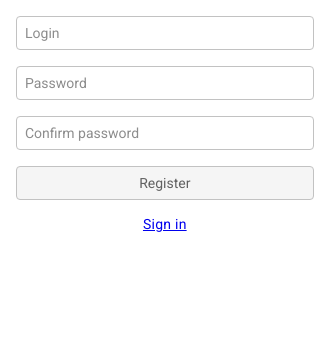
Test: <RegisterInput></RegisterInput> › when register button clicked and login/password are not filled › should show validation errors
Type "password" into the password field with placeholder "Confirm password" at (165, 133), box [16,116,314,150]
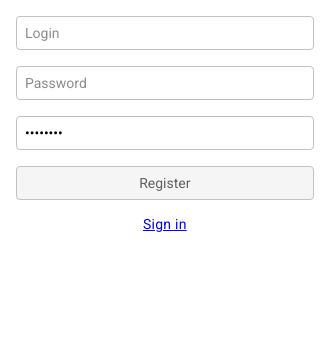
Click the button "Register" at (165, 183), box [16,166,314,200]
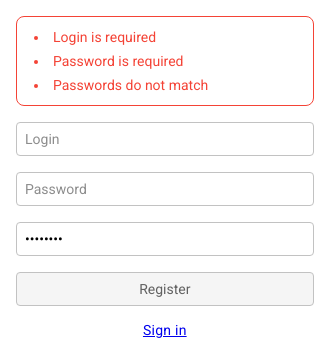
Check: the list item "Login is required" is shown, box [53,29,156,45]
Check: the list item "Password is required" is shown, box [53,53,184,69]
